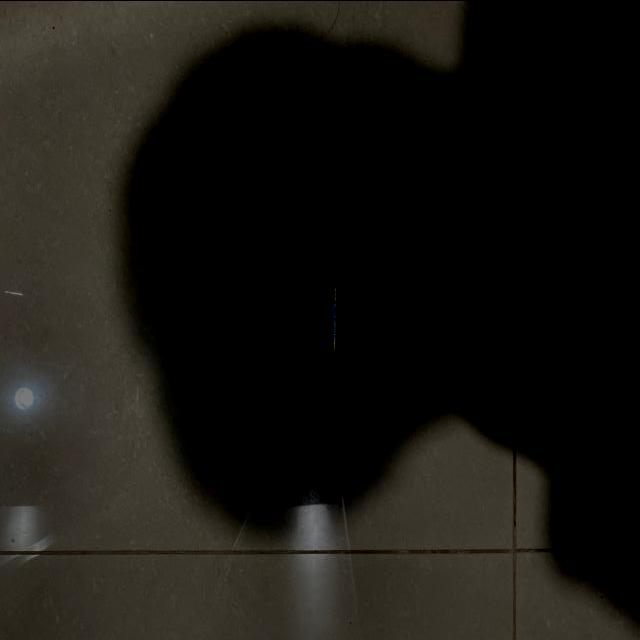AAA: (331, 284, 344, 352)
